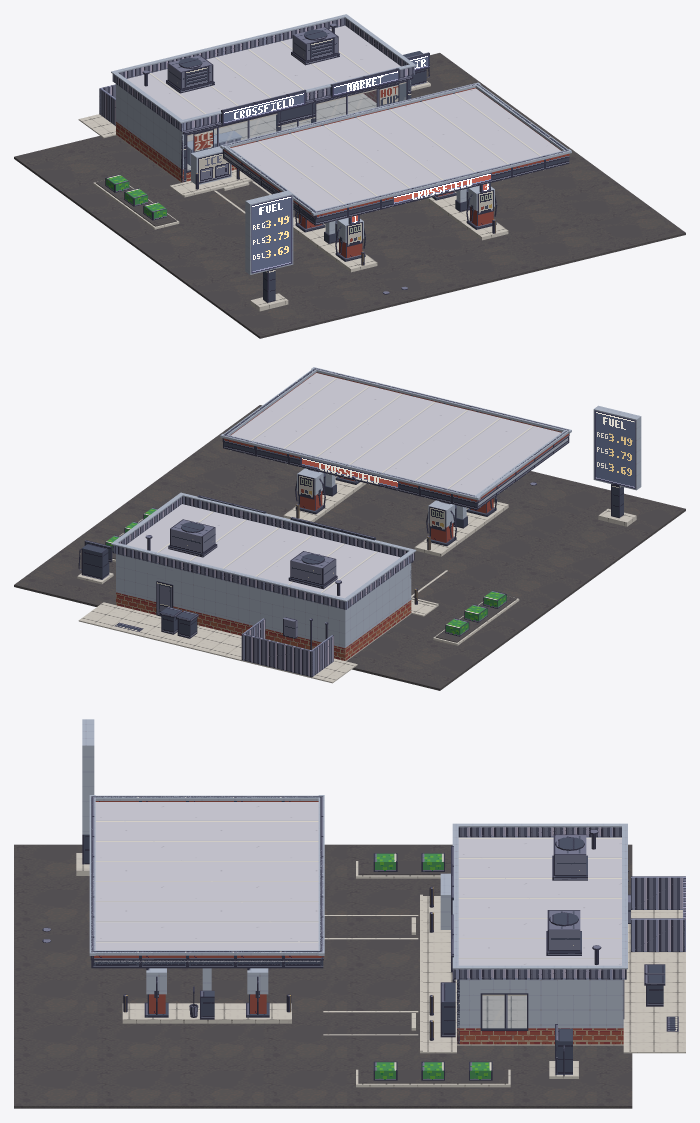
The model's file is modern-gas-station.glb.
3 renders of one model, top to bottom at view 1: azimuth 30°, elevation 25°; view 2: azimuth 150°, elevation 25°; view 3: azimuth 270°, elevation 25°, orthographic. The views are drawn at different scales.
Visible parts, largest first — view 1: lot__ground_asphalt, structure__roof_membrane, structure__wall_concrete, structure__trim_enamel_charcoal, lot__ground_paving, structure__glass_storefront, structure__wall_corrugated, structure__glow_station_signs_and_lamps, structure__detail_utility, lot__glow_station_signs_and_lamps, structure__ground_paving, structure__trim_enamel_terracotta (+9 smaller); view 2: lot__ground_asphalt, structure__roof_membrane, structure__wall_concrete, lot__ground_paving, structure__wall_corrugated, structure__trim_enamel_charcoal, structure__wall_brick_base, lot__wall_corrugated, structure__detail_utility, lot__trim_enamel_charcoal, lot__detail_utility, lot__glow_station_signs_and_lamps (+6 smaller); view 3: lot__ground_asphalt, structure__roof_membrane, structure__wall_concrete, lot__ground_paving, structure__trim_enamel_charcoal, lot__detail_utility, lot__wall_corrugated, structure__wall_corrugated, structure__detail_utility, structure__wall_brick_base, lot__trim_enamel_charcoal, structure__glass_storefront (+5 smaller).
Part boxes in pixels (left/top/right/bottom): lot__ground_asphalt: left=14, top=53, right=685, bottom=338; structure__roof_membrane: left=127, top=25, right=560, bottom=217; structure__wall_concrete: left=111, top=14, right=571, bottom=234; structure__trim_enamel_charcoal: left=166, top=29, right=569, bottom=243; lot__ground_paving: left=78, top=81, right=508, bottom=311; structure__glass_storefront: left=186, top=81, right=407, bottom=172; structure__wall_corrugated: left=112, top=18, right=414, bottom=165; structure__glow_station_signs_and_lamps: left=223, top=70, right=491, bottom=204; structure__detail_utility: left=142, top=23, right=338, bottom=89; lot__glow_station_signs_and_lamps: left=251, top=54, right=428, bottom=273; structure__ground_paving: left=116, top=93, right=376, bottom=182; structure__trim_enamel_terracotta: left=182, top=76, right=569, bottom=219; lot__ground_asphalt: left=14, top=405, right=685, bottom=690; structure__roof_membrane: left=126, top=373, right=567, bottom=598; structure__wall_concrete: left=111, top=367, right=571, bottom=647; lot__ground_paving: left=77, top=476, right=636, bottom=683; structure__wall_corrugated: left=112, top=496, right=414, bottom=609; structure__trim_enamel_charcoal: left=157, top=368, right=569, bottom=607; structure__wall_brick_base: left=116, top=592, right=411, bottom=660; lot__wall_corrugated: left=241, top=618, right=333, bottom=677; structure__detail_utility: left=145, top=519, right=341, bottom=616; lot__trim_enamel_charcoal: left=81, top=483, right=623, bottom=638; lot__detail_utility: left=78, top=482, right=536, bottom=650; lot__glow_station_signs_and_lamps: left=594, top=410, right=635, bottom=488; lot__ground_asphalt: left=14, top=844, right=632, bottom=1108; structure__roof_membrane: left=94, top=802, right=621, bottom=965; structure__wall_concrete: left=89, top=795, right=627, bottom=1028; lot__ground_paving: left=76, top=853, right=685, bottom=1087; structure__trim_enamel_charcoal: left=91, top=796, right=624, bottom=1044; lot__detail_utility: left=42, top=853, right=678, bottom=1080; lot__wall_corrugated: left=631, top=876, right=685, bottom=951; structure__wall_corrugated: left=454, top=827, right=626, bottom=982; structure__detail_utility: left=547, top=829, right=601, bottom=964; structure__wall_brick_base: left=457, top=1028, right=623, bottom=1044; lot__trim_enamel_charcoal: left=82, top=834, right=665, bottom=1074; structure__glass_storefront: left=480, top=993, right=528, bottom=1030.
Size of what is drawn, in the model's own units: 32.28 by 7.99 by 35.08.
12 materials, 12 textured.
